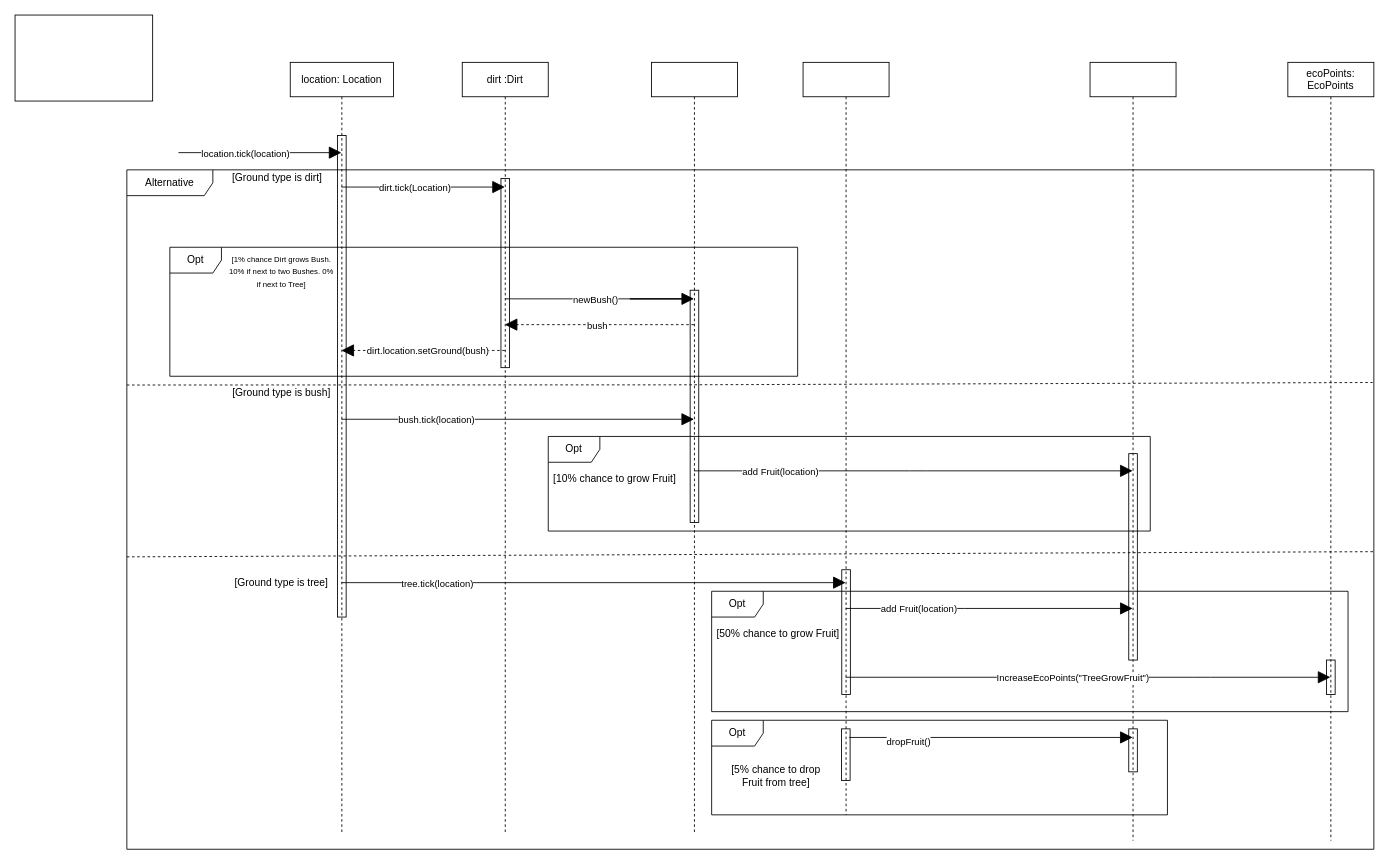
This 1391x864 diagram has some shape labels left out. Here are the shapes that lost their labels. From the top down, the box of each, then its label:
(14, 14, 153, 101): Bush and Fruit Growing Sequence Diagram
(651, 61, 737, 832): bush :Bush
(802, 61, 889, 815): tree :Tree
(1089, 61, 1176, 841): location:Location
